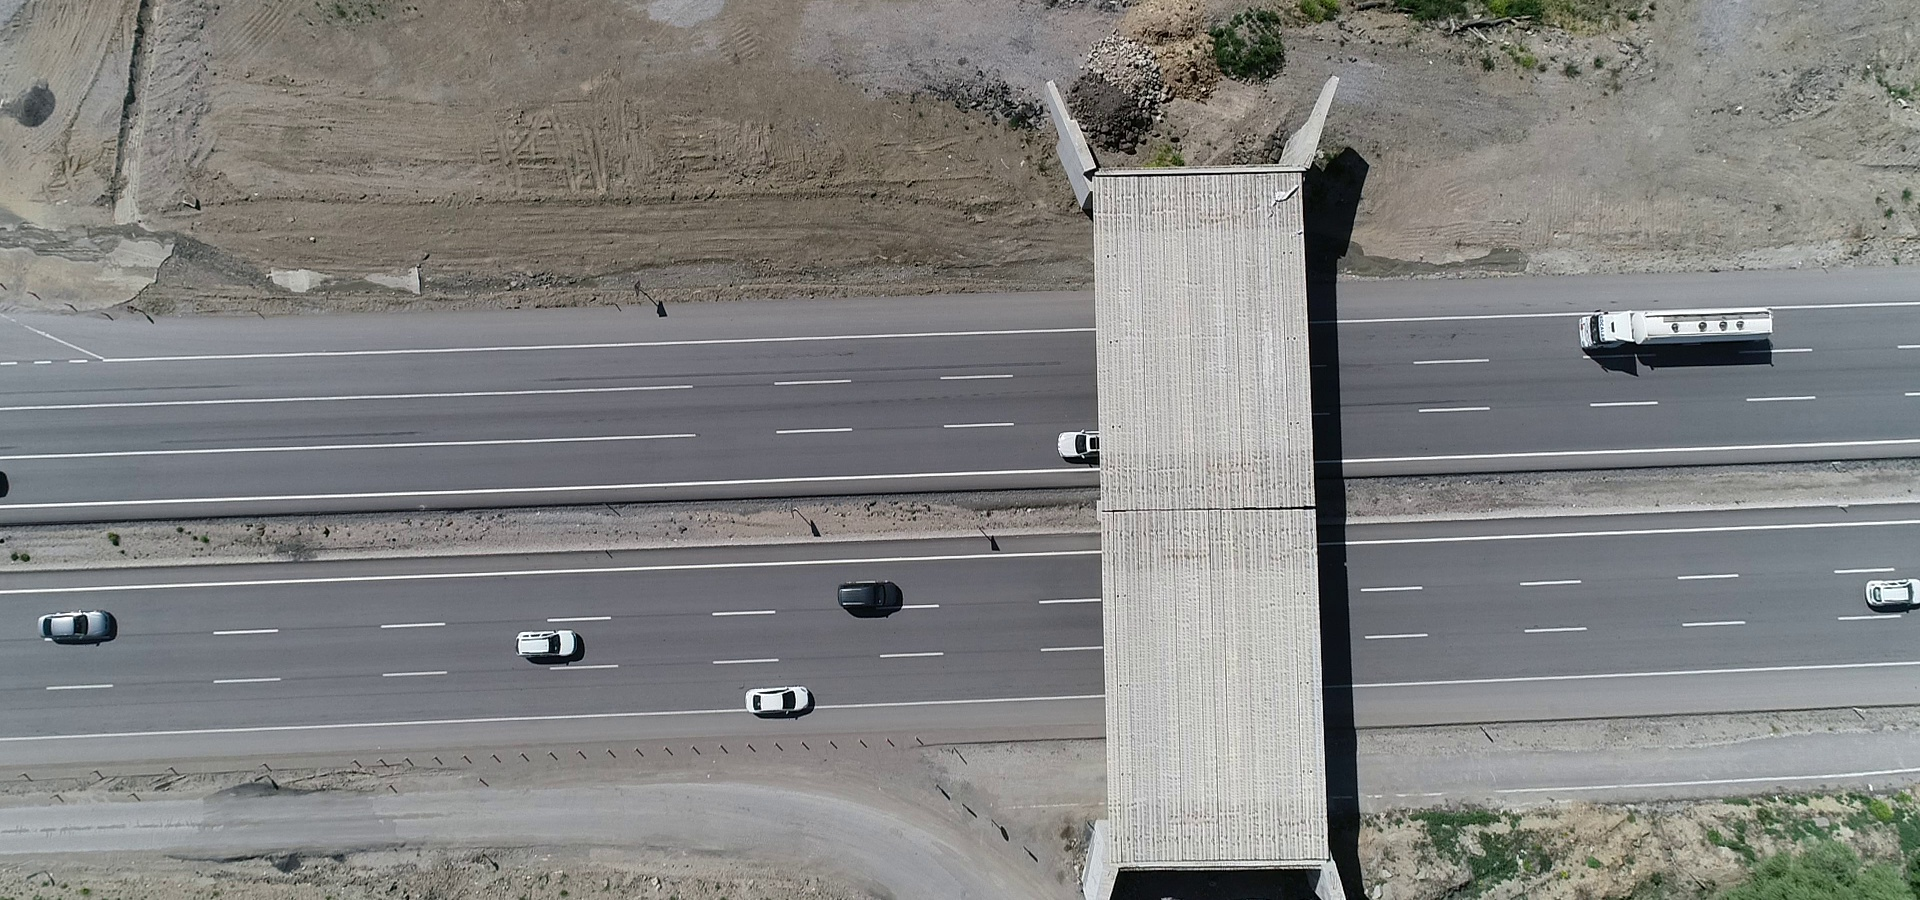araba: (28, 604, 130, 654), (741, 676, 835, 724), (833, 574, 916, 620), (512, 624, 585, 669), (1858, 577, 1920, 610), (1057, 420, 1100, 464)
kamyon: (1573, 309, 1782, 358)
